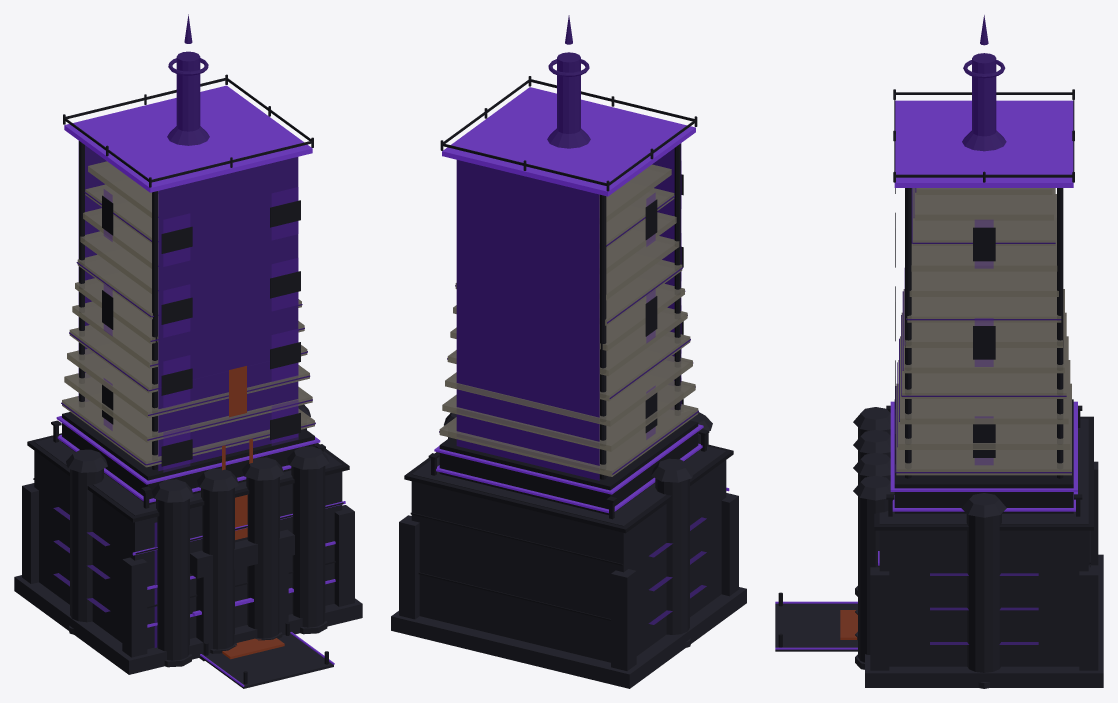
Rendered from knowledgebase-ext-draft-18.glb.
3 renders of one model, left to right at view 1: azimuth 30°, elevation 25°; view 2: azimuth 150°, elevation 25°; view 3: azimuth 270°, elevation 25°, orthographic. The views are drawn at different scales.
Visible parts, largest first — view 1: stone_base_body, crown_platform, emissive_panel_front_10, emissive_panel_front_04, emissive_panel_front_06, stone_column_front_3, stone_column_front_0, stone_plinth, stone_column_front_2, transition_zone, stone_column_front_1, emissive_panel_front_01 (+56 smaller); view 2: stone_base_body, crown_platform, stone_plinth, emissive_panel_back_04, emissive_panel_back_08, emissive_panel_back_06, transition_zone, emissive_panel_back_10, emissive_panel_back_02, emissive_panel_back_00, stone_column_side_0, data_floor_00 (+23 smaller); view 3: stone_base_body, crown_platform, stone_plinth, transition_zone, stone_column_side_1, data_floor_02, data_floor_00, data_floor_03, data_floor_01, data_floor_04, data_floor_07, data_floor_06 (+27 smaller).
Boxes of the visible parts, x1=… form: stone_base_body: x1=34, y1=437, x2=342, y2=649; crown_platform: x1=64, y1=85, x2=312, y2=192; emissive_panel_front_10: x1=158, y1=157, x2=298, y2=234; emissive_panel_front_04: x1=158, y1=295, x2=298, y2=373; emissive_panel_front_06: x1=158, y1=248, x2=298, y2=329; stone_column_front_3: x1=291, y1=466, x2=325, y2=627; stone_column_front_0: x1=156, y1=498, x2=189, y2=660; stone_plinth: x1=14, y1=575, x2=362, y2=674; stone_column_front_2: x1=246, y1=477, x2=279, y2=638; transition_zone: x1=62, y1=412, x2=314, y2=504; stone_column_front_1: x1=201, y1=487, x2=234, y2=649; emissive_panel_front_01: x1=158, y1=366, x2=298, y2=447; stone_base_body: x1=411, y1=446, x2=726, y2=662; crown_platform: x1=442, y1=87, x2=695, y2=196; stone_plinth: x1=391, y1=587, x2=746, y2=688; emissive_panel_back_04: x1=456, y1=301, x2=599, y2=384; emissive_panel_back_08: x1=456, y1=205, x2=599, y2=287; emissive_panel_back_06: x1=456, y1=253, x2=599, y2=335; transition_zone: x1=439, y1=420, x2=698, y2=514; emissive_panel_back_10: x1=456, y1=160, x2=599, y2=239; emissive_panel_back_02: x1=456, y1=349, x2=599, y2=432; emissive_panel_back_00: x1=456, y1=398, x2=599, y2=480; stone_column_side_0: x1=655, y1=478, x2=689, y2=634; data_floor_00: x1=439, y1=404, x2=698, y2=476; stone_base_body: x1=879, y1=418, x2=1088, y2=666; crown_platform: x1=894, y1=100, x2=1073, y2=187; stone_plinth: x1=865, y1=554, x2=1103, y2=687; transition_zone: x1=894, y1=399, x2=1073, y2=513; stone_column_side_1: x1=966, y1=513, x2=1001, y2=672; data_floor_02: x1=900, y1=336, x2=1068, y2=424; data_floor_00: x1=896, y1=383, x2=1071, y2=475; data_floor_03: x1=901, y1=312, x2=1066, y2=398; data_floor_01: x1=898, y1=360, x2=1070, y2=449; data_floor_04: x1=903, y1=289, x2=1064, y2=373; data_floor_07: x1=909, y1=271, x2=1058, y2=296; data_floor_06: x1=907, y1=297, x2=1061, y2=322.
Bounding box in the file's own units: 5.34 × 12.59 × 6.05.
